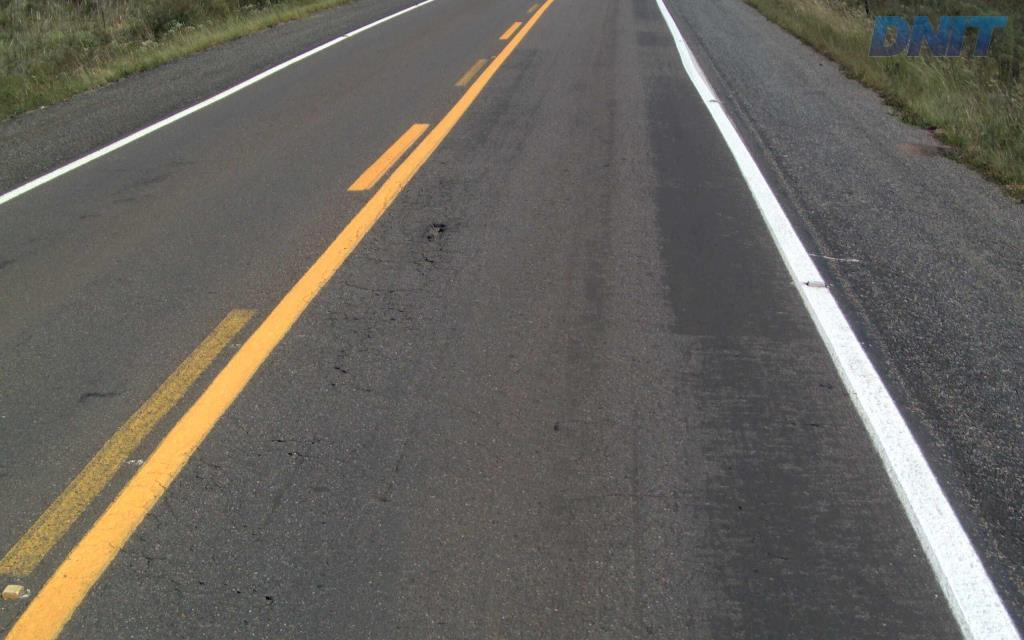pothole: (422, 219, 455, 245)
